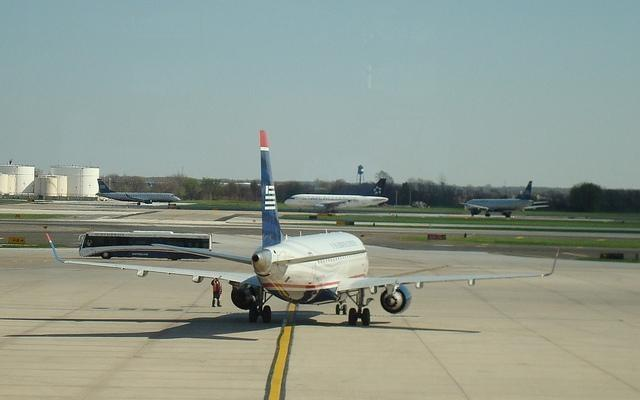bus: (80, 231, 212, 262)
